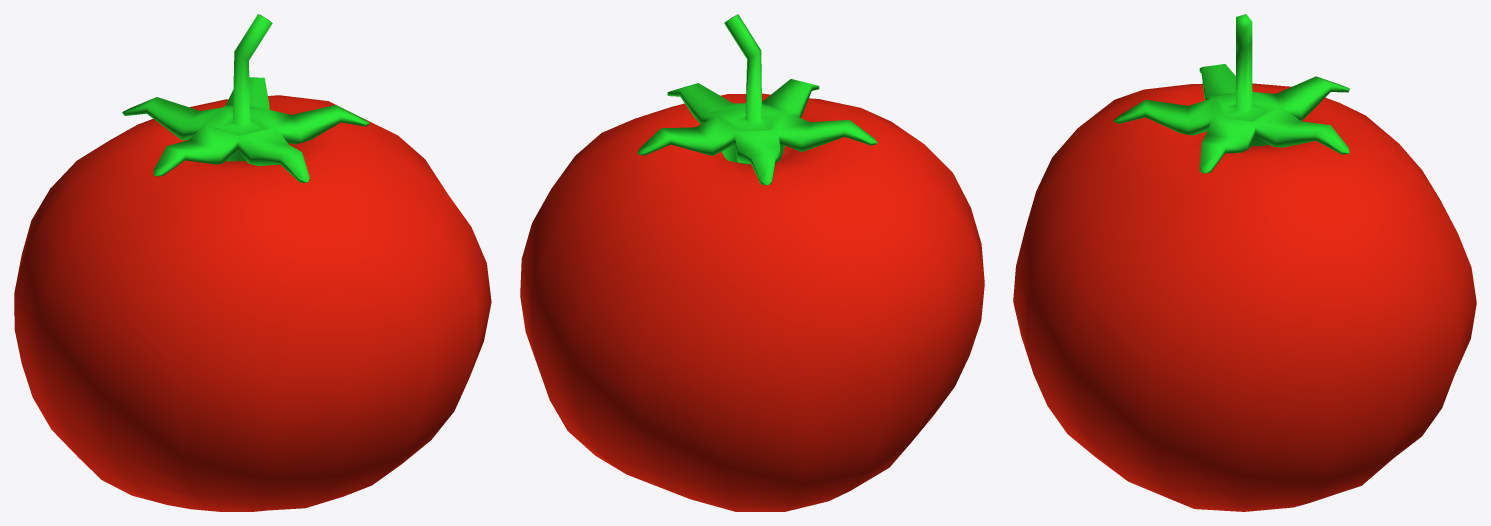
File: tomato.fbx
3 views of the same model, side by side, from view 1: azimuth 30°, elevation 25°; view 2: azimuth 150°, elevation 25°; view 3: azimuth 270°, elevation 25° (orthographic). The views are drawn at different scales.
Parts seen in each view (by area): view 1: Sphere, Cylinder; view 2: Sphere, Cylinder; view 3: Sphere, Cylinder.
Boxes of the visible parts, x1,y1,x2,y2 form: Sphere: [14, 95, 491, 511]; Cylinder: [122, 14, 369, 182]; Sphere: [520, 93, 984, 511]; Cylinder: [637, 14, 877, 185]; Sphere: [1013, 83, 1476, 511]; Cylinder: [1113, 14, 1349, 173].
Size of the model in its own units: 112 by 124 by 109.
